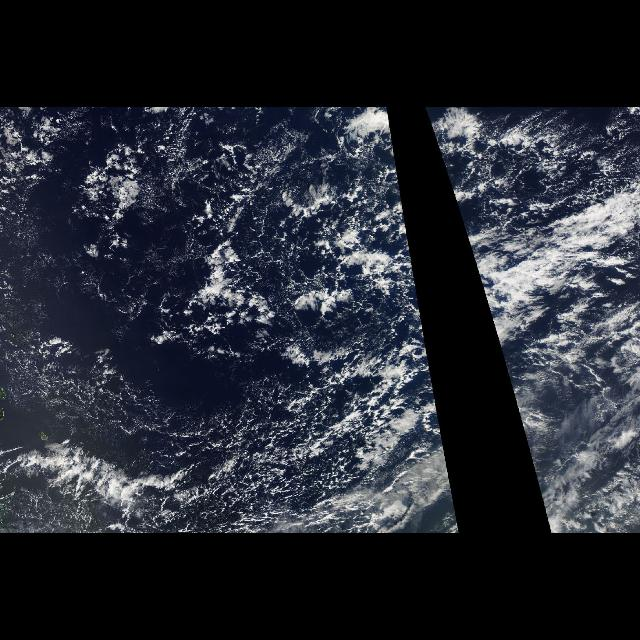Gravel: (170, 127, 426, 340), (186, 376, 382, 524), (15, 313, 161, 442), (431, 127, 443, 159)
Sugar: (16, 336, 286, 458)
